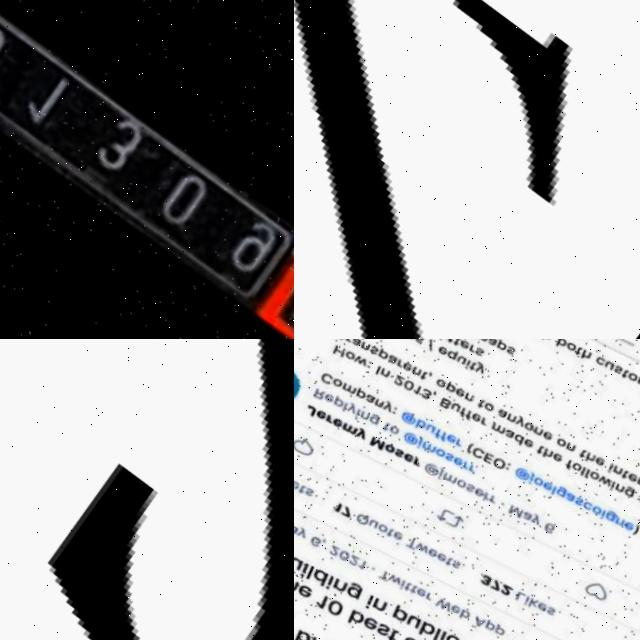0: (147, 165, 211, 233), (318, 594, 344, 620), (397, 374, 415, 392), (331, 545, 349, 562)
1: (10, 65, 73, 132), (308, 591, 326, 609), (327, 499, 342, 513), (351, 556, 364, 569), (408, 381, 420, 394)
2: (0, 339, 294, 640), (492, 579, 510, 597), (387, 370, 405, 387), (321, 541, 338, 558), (341, 550, 358, 567)
3: (79, 109, 149, 181), (415, 383, 433, 400), (473, 569, 490, 586)
6: (303, 531, 321, 548), (537, 517, 555, 534)
7: (276, 267, 294, 337), (483, 575, 501, 592), (334, 501, 351, 518)
9: (211, 211, 282, 283)
Z: (294, 0, 640, 339)
